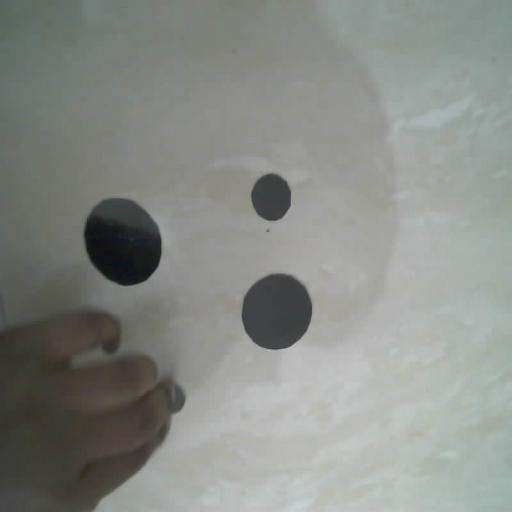pothole: (84, 198, 162, 287), (242, 274, 312, 351), (251, 173, 291, 222)
